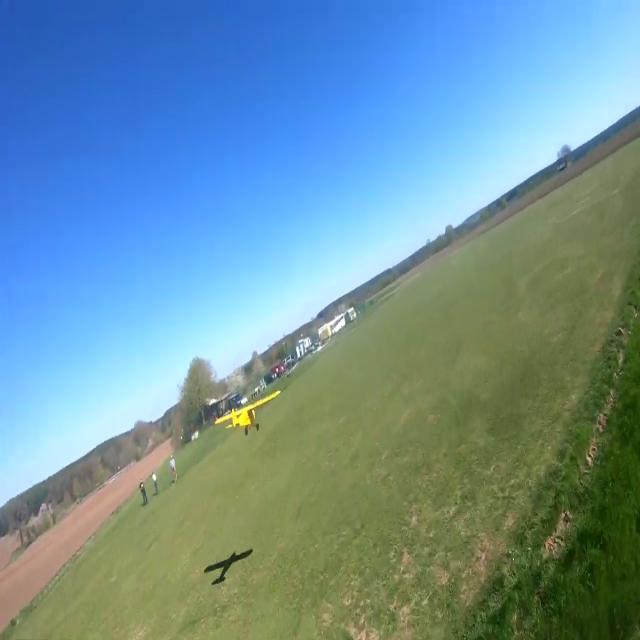iha: (215, 390, 279, 432)
